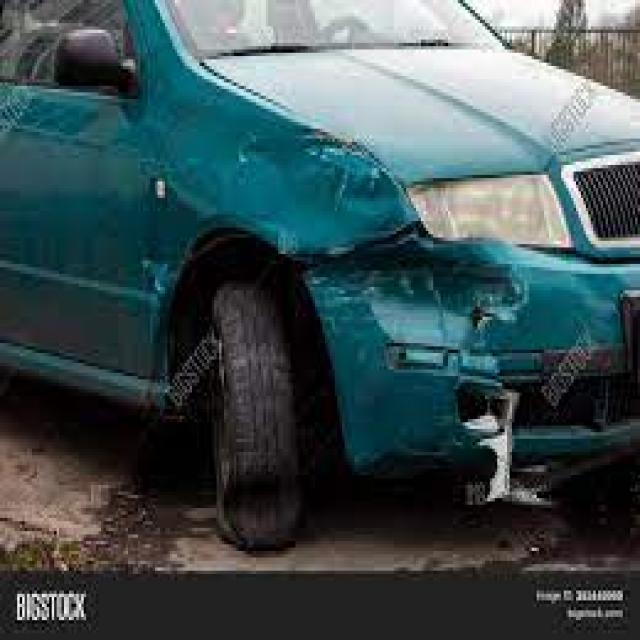moderate: (265, 101, 569, 520)
